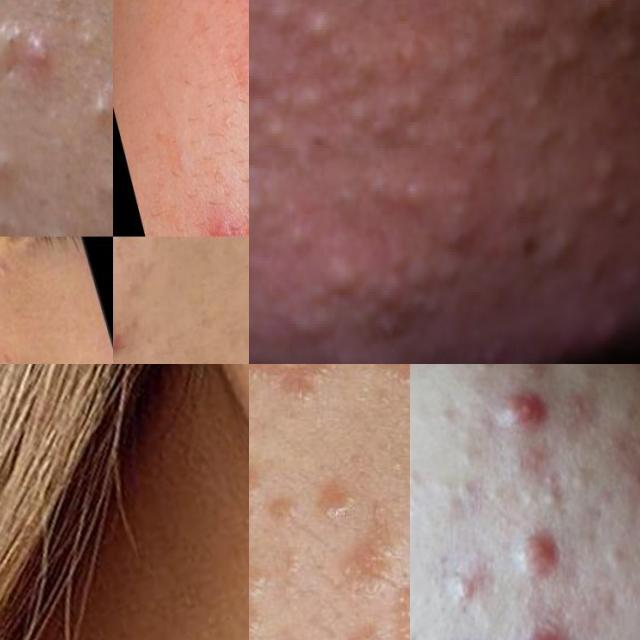comedone: (0, 120, 40, 213), (78, 141, 113, 232), (419, 385, 469, 433), (113, 259, 153, 309), (86, 73, 113, 144), (509, 481, 574, 509), (597, 538, 630, 573), (34, 220, 86, 237), (0, 24, 9, 82)
flat_wart: (329, 514, 402, 605), (296, 472, 370, 541), (249, 364, 346, 410), (361, 564, 409, 640), (254, 486, 310, 541), (318, 610, 401, 640), (353, 364, 410, 394), (0, 236, 11, 332)
papule: (521, 501, 585, 580), (431, 559, 488, 614), (484, 380, 535, 432), (186, 194, 249, 236), (498, 612, 576, 640), (113, 320, 129, 364)
pustule: (21, 31, 66, 82), (440, 621, 471, 640)
